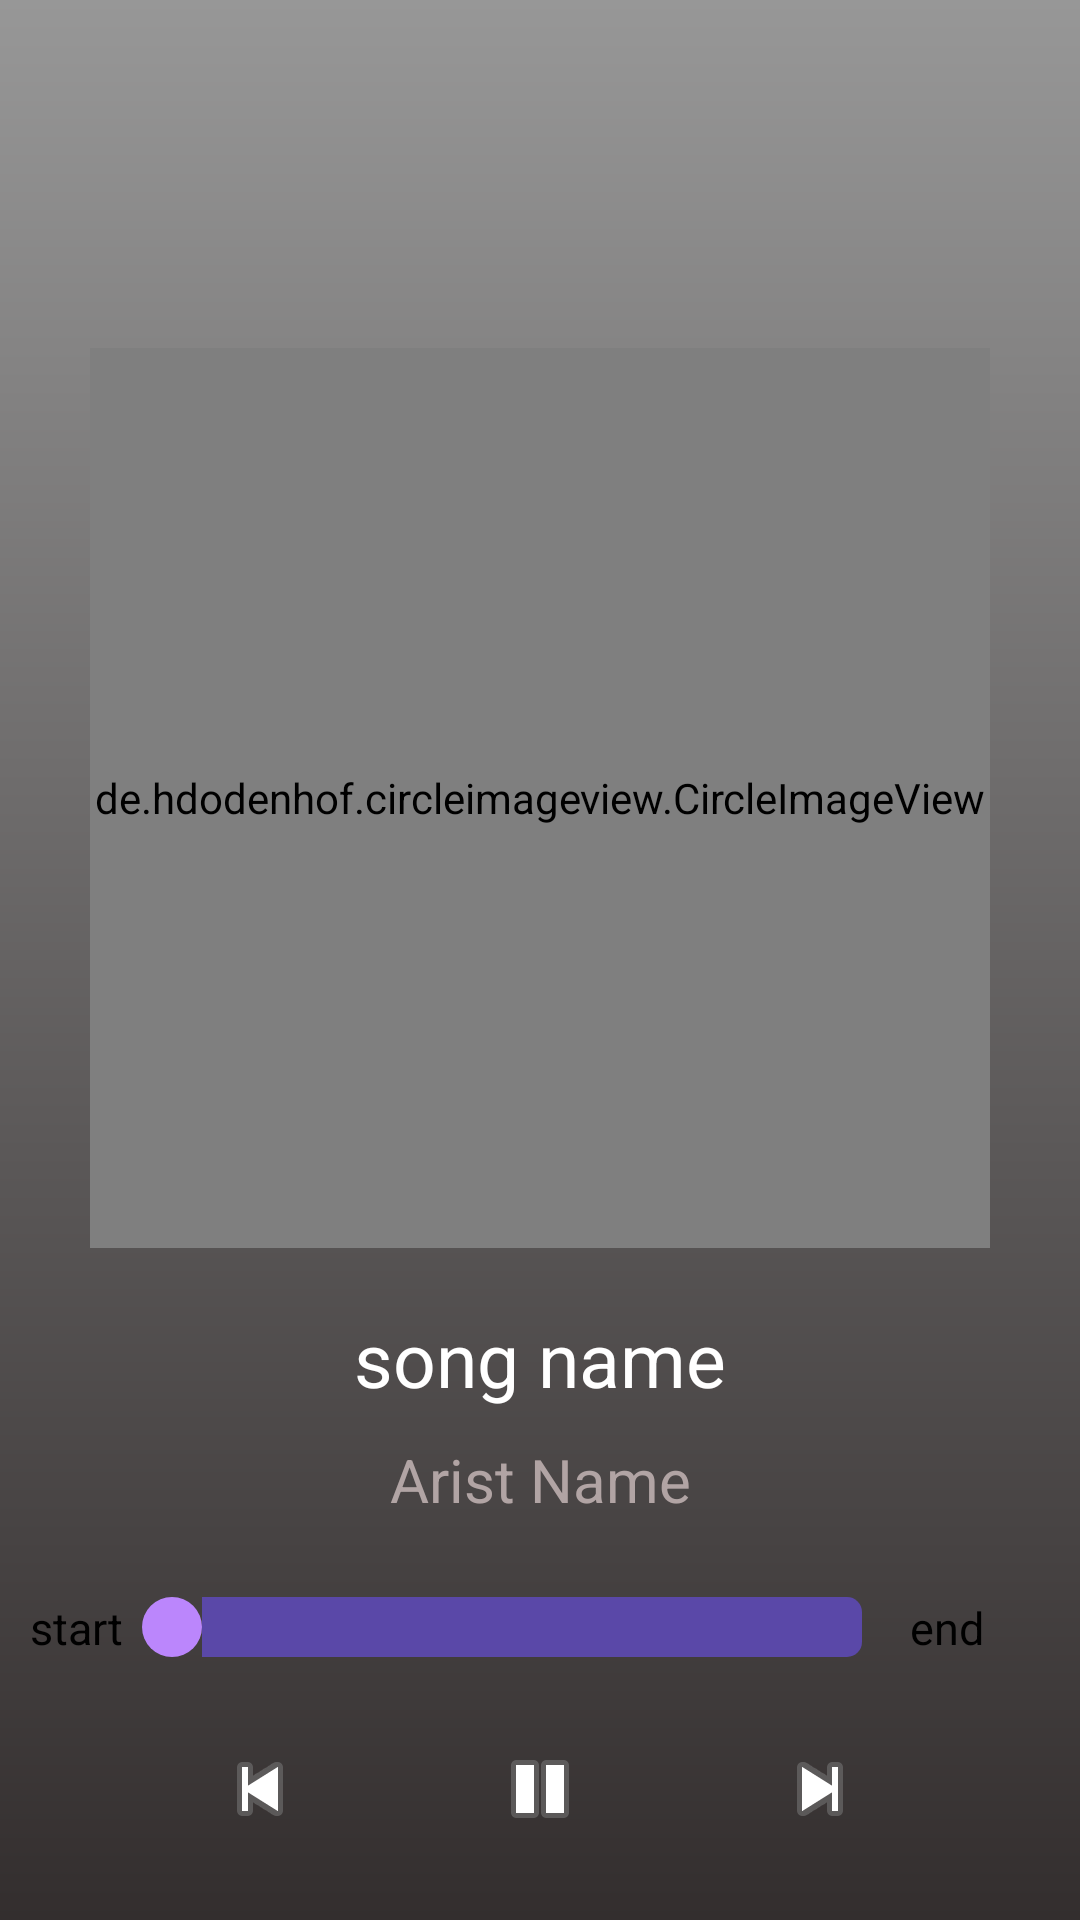

Where to tap for icons on this 1080*1920 app screen, as [x,y]:
next: [820,1789]
pause: [540,1789]
previous: [260,1789]
